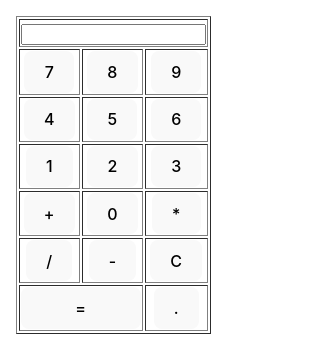
Calculator Component › check if sum if working
The image size is (320, 351).
Click the button "5". click: (112, 119)
box: [87, 99, 137, 140]
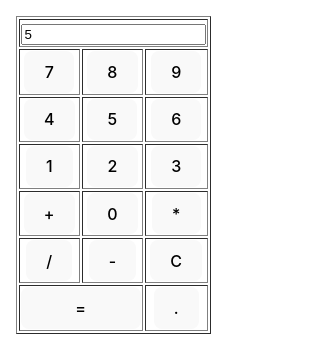
Click the button "+". click: (49, 214)
box: [24, 193, 75, 234]
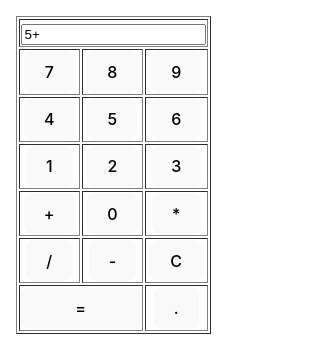
Click the button "3". click: (176, 166)
box: [151, 146, 201, 187]
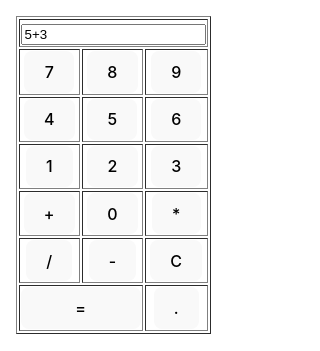
Click the button "=". click: (81, 308)
box: [20, 287, 141, 329]
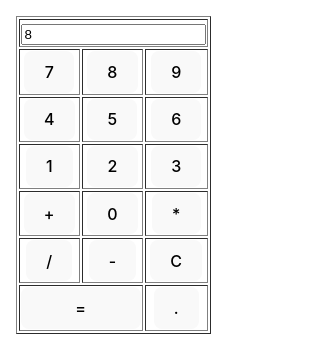
Now the field holds "8", box [20, 24, 206, 45]
